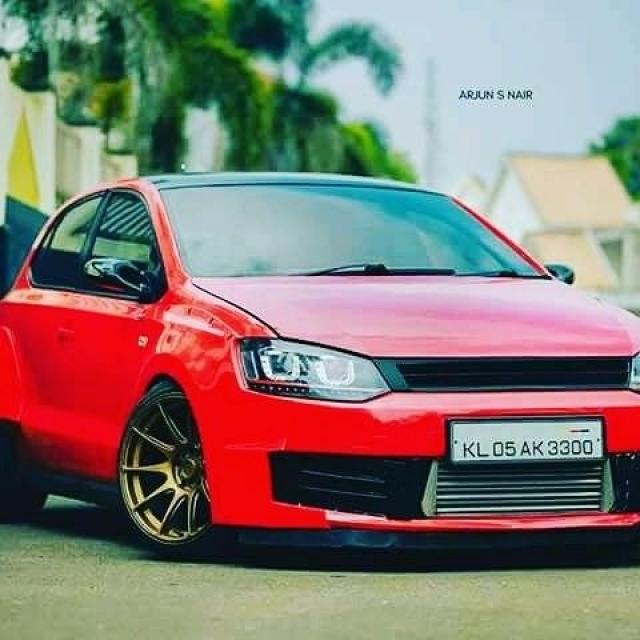number_plate: (446, 416, 602, 456)
